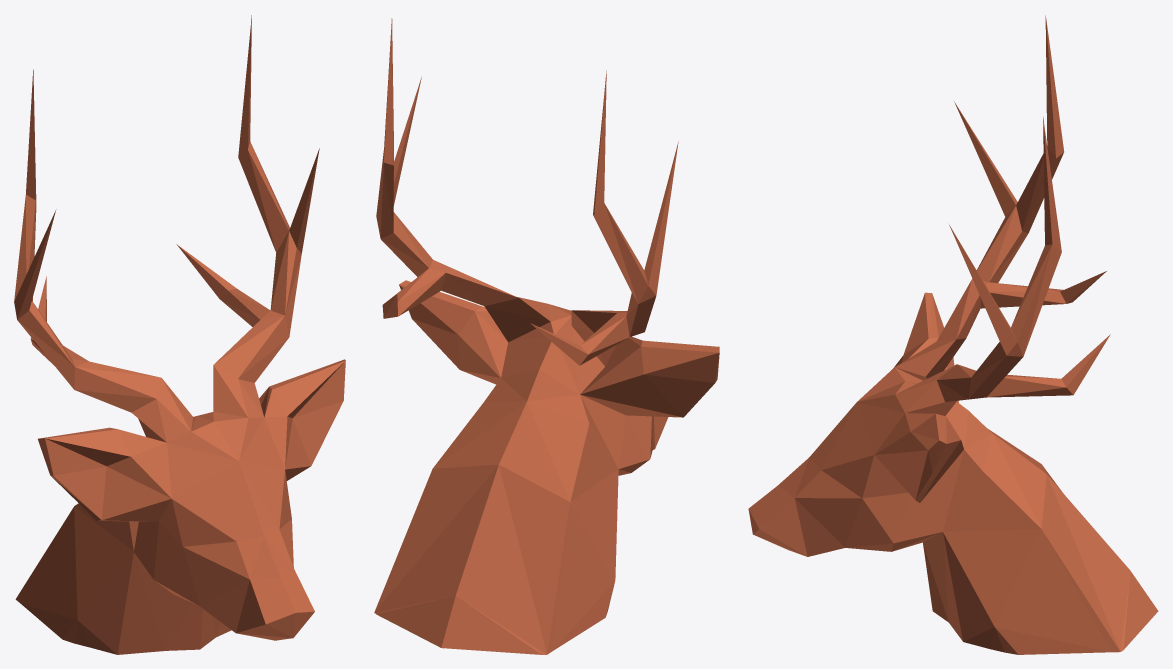
File: Prop_Christmas_Ornament_Reindeer_Head_Burnished_01.FBX
3 views of the same model, side by side, from view 1: azimuth 30°, elevation 25°; view 2: azimuth 150°, elevation 25°; view 3: azimuth 270°, elevation 25° (orthographic). The views are drawn at different scales.
Parts seen in each view (by area): view 1: Prop_Christmas_Ornament_Reindeer_Head_Burnished_01; view 2: Prop_Christmas_Ornament_Reindeer_Head_Burnished_01; view 3: Prop_Christmas_Ornament_Reindeer_Head_Burnished_01.
Part boxes in pixels (left/top/right/bottom): Prop_Christmas_Ornament_Reindeer_Head_Burnished_01: left=14, top=15, right=345, bottom=654; Prop_Christmas_Ornament_Reindeer_Head_Burnished_01: left=374, top=18, right=719, bottom=654; Prop_Christmas_Ornament_Reindeer_Head_Burnished_01: left=748, top=15, right=1158, bottom=654.
Bounding box in the file's own units: 344 × 592 × 403.
